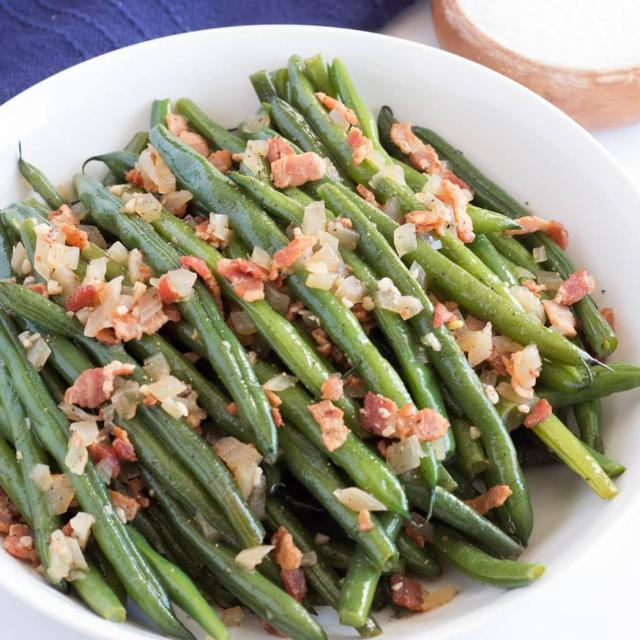Beans: (0, 52, 639, 639)
